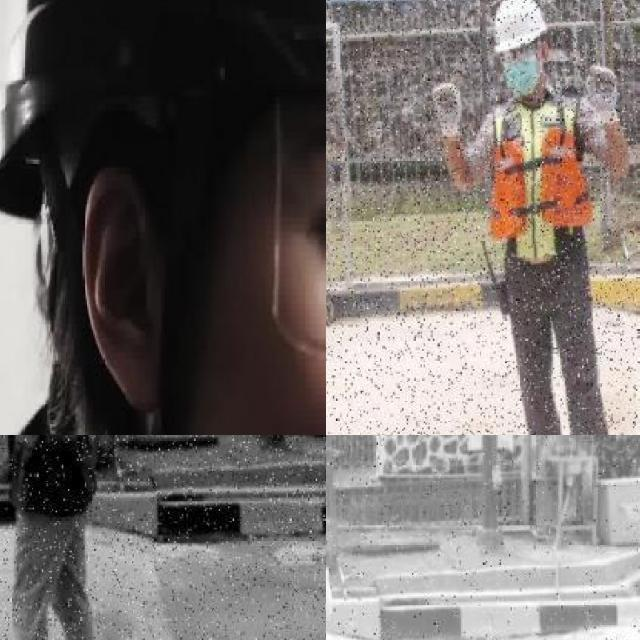apron: (580, 56, 624, 122), (426, 78, 466, 137), (326, 563, 334, 632)
